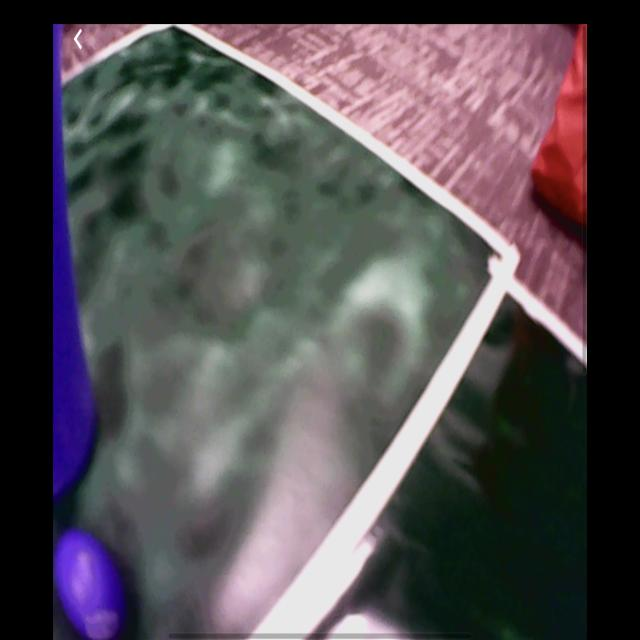ball: (56, 527, 130, 639)
